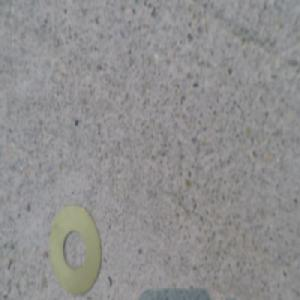Washer: (49, 206, 100, 292)
